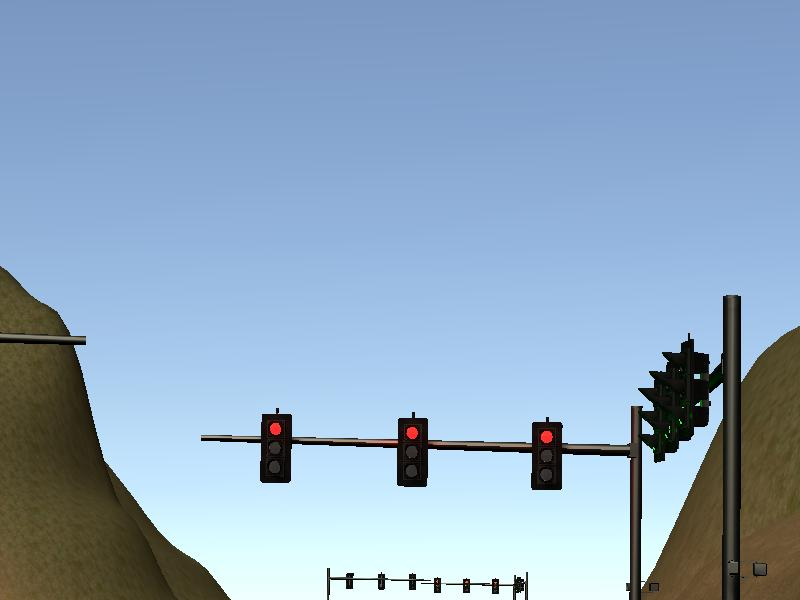red: (258, 412, 293, 486), (395, 414, 430, 488), (528, 419, 563, 493)
